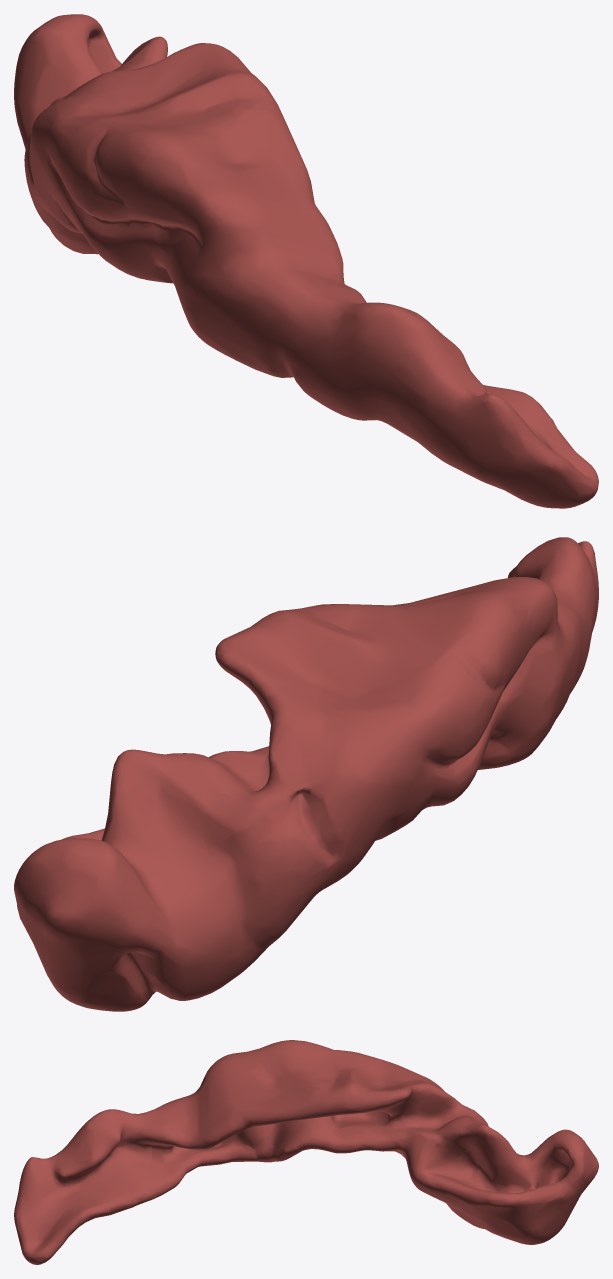
Rendered from FMA72685.glb.
The picture shows the model from 3 angles, top to bottom: view 1: azimuth 30°, elevation 25°; view 2: azimuth 150°, elevation 25°; view 3: azimuth 270°, elevation 25°; orthographic projection. The views are drawn at different scales.
Visible parts, largest first — view 1: FMA72685; view 2: FMA72685; view 3: FMA72685.
Part boxes in pixels (box(x1,y1,x2,y2)): FMA72685: box(14, 14, 598, 508); FMA72685: box(14, 537, 598, 1011); FMA72685: box(14, 1040, 598, 1264).
Size of the model in its own units: 0.0339 by 0.0321 by 0.1051.
